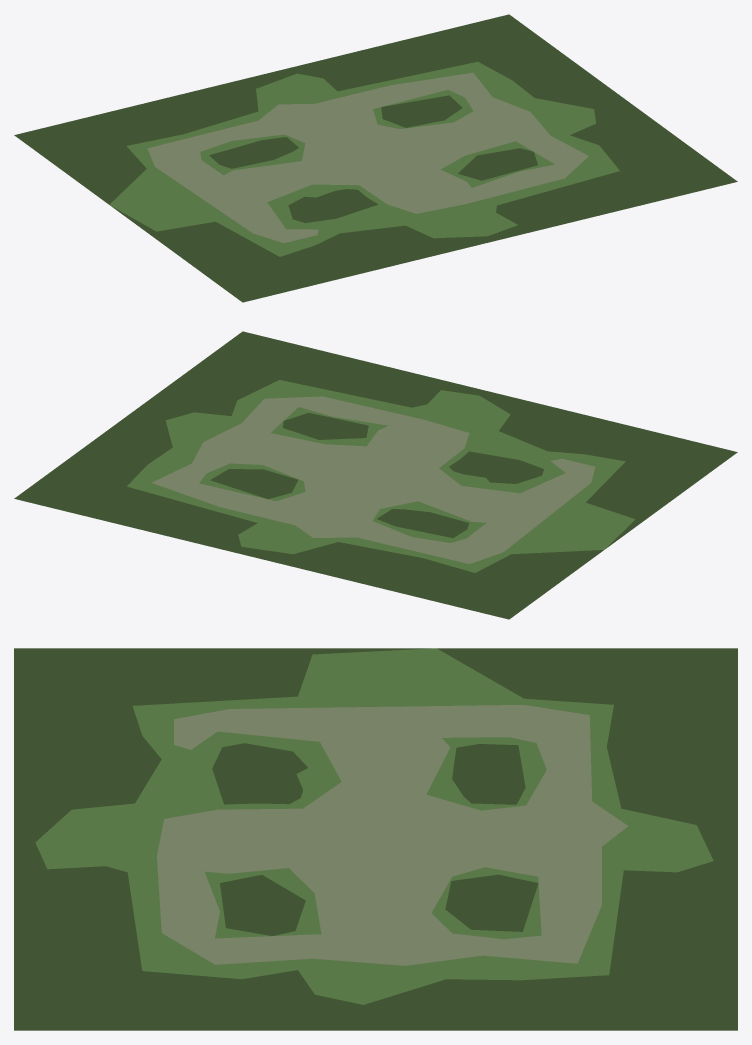
The model's file is Dest_Garden_Field.FBX.
The picture shows the model from 3 angles, top to bottom: view 1: azimuth 30°, elevation 25°; view 2: azimuth 150°, elevation 25°; view 3: azimuth 270°, elevation 25°; orthographic projection. The views are drawn at different scales.
Visible parts, largest first — view 1: Plane001; view 2: Plane001; view 3: Plane001.
Boxes of the visible parts, left/top/right/bottom form: Plane001: left=14, top=14, right=737, bottom=302; Plane001: left=14, top=331, right=737, bottom=619; Plane001: left=14, top=648, right=737, bottom=1030.
Size of the model in its own units: 250 by 1.22e-14 by 200.
